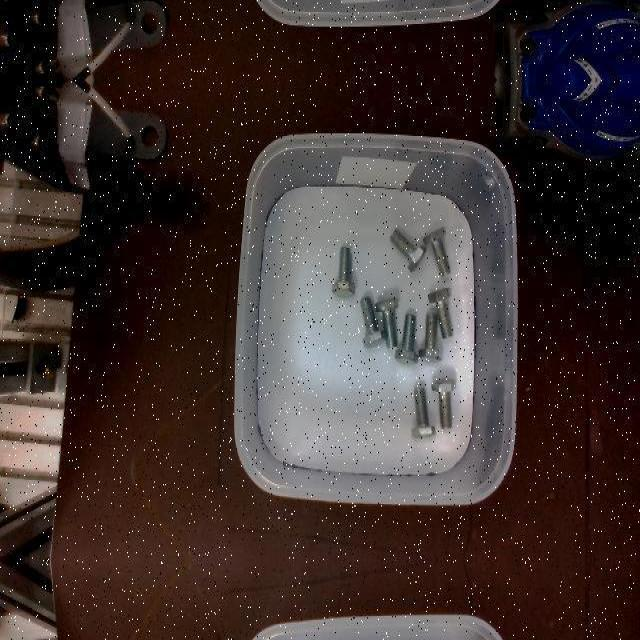screw: (389, 228, 425, 270), (423, 225, 451, 275), (359, 297, 385, 349), (427, 287, 454, 337), (431, 377, 456, 429), (418, 313, 443, 363), (411, 385, 436, 435), (394, 313, 418, 365), (332, 246, 355, 298), (376, 297, 399, 347)
